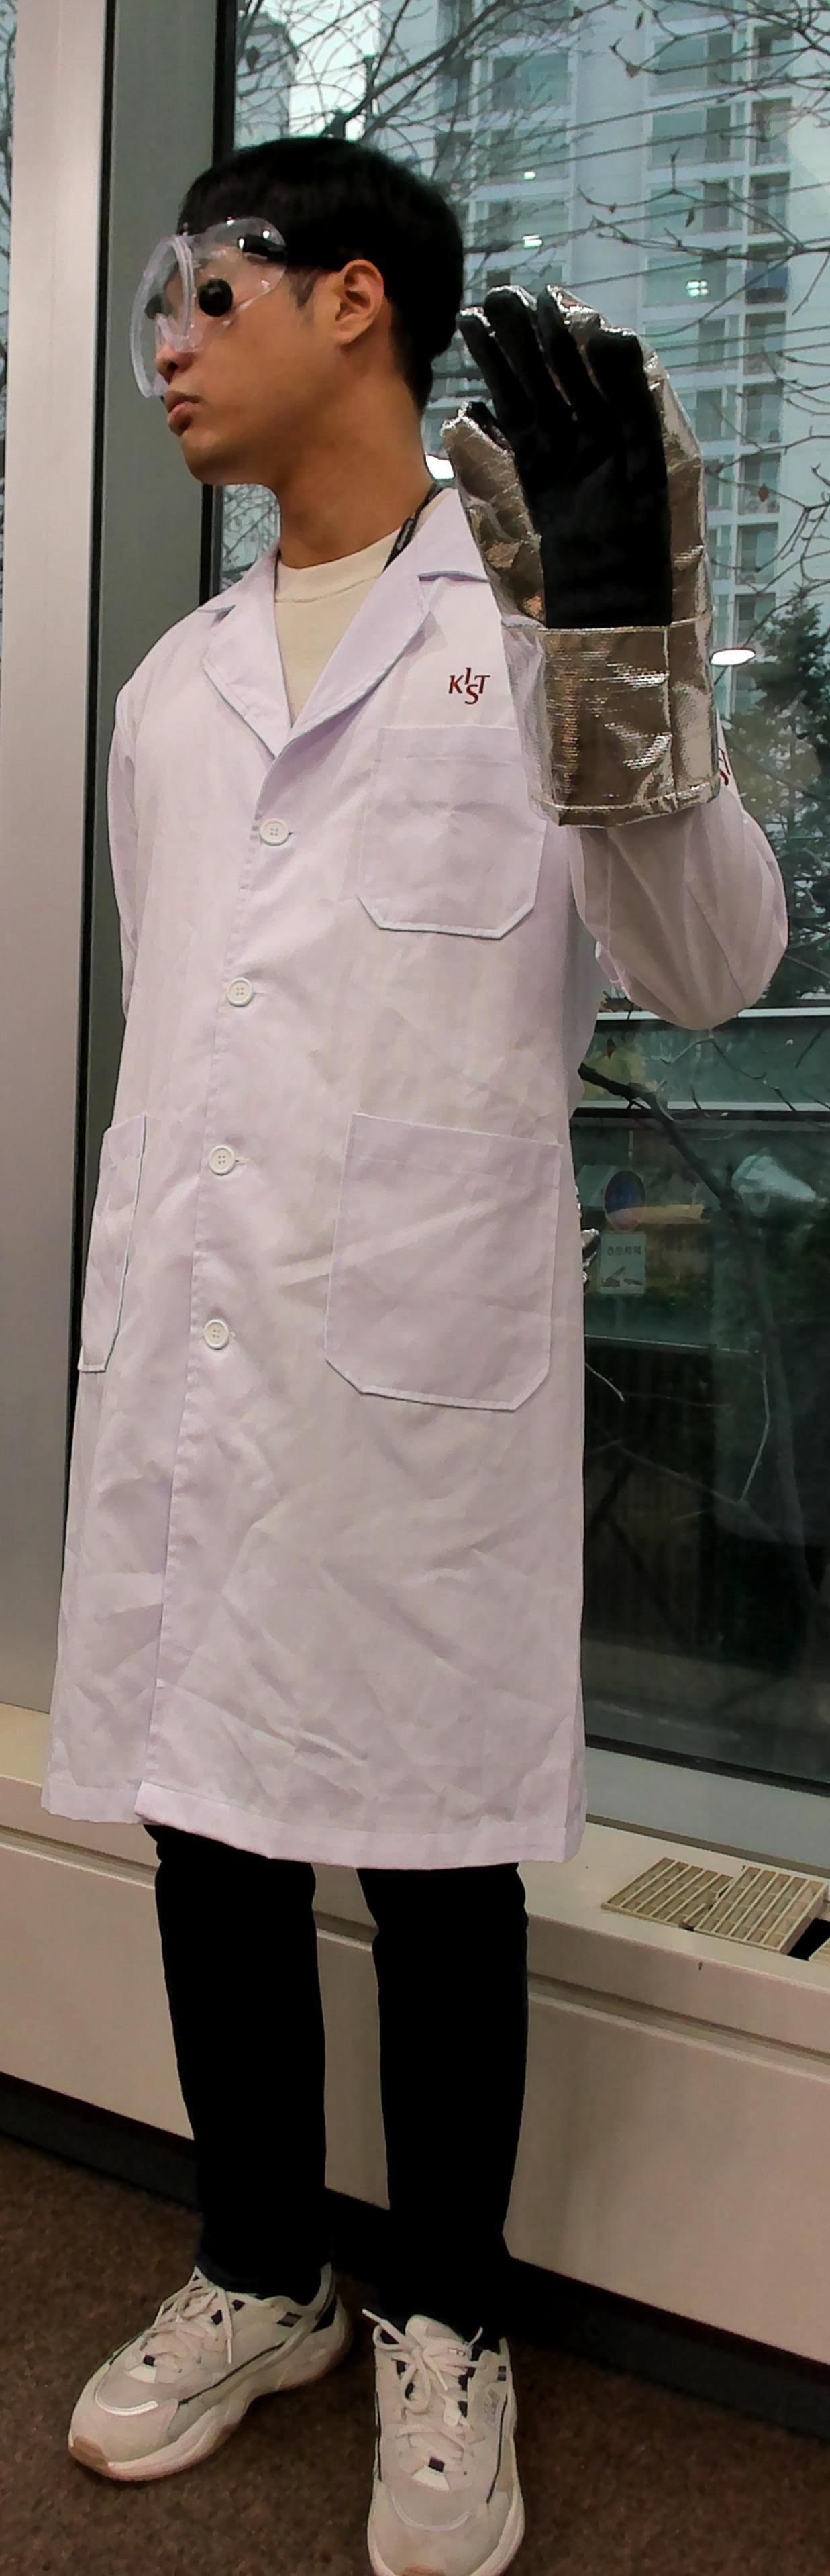lab_coat: (41, 606, 590, 1782)
